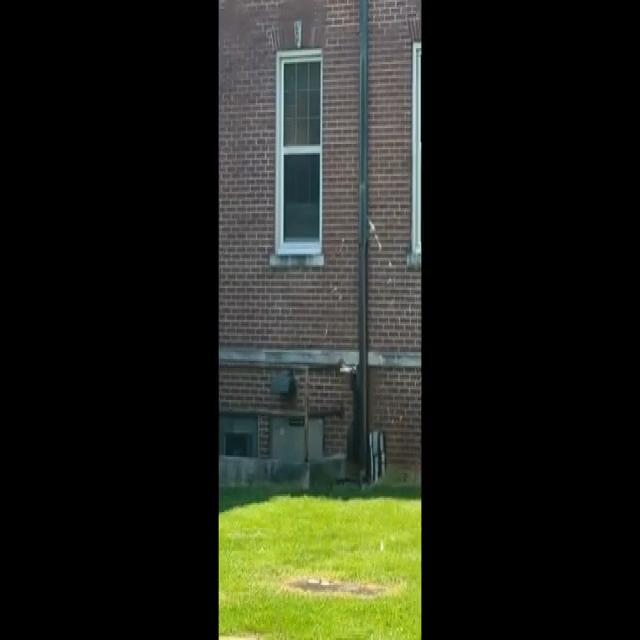drone: (333, 350, 362, 389)
